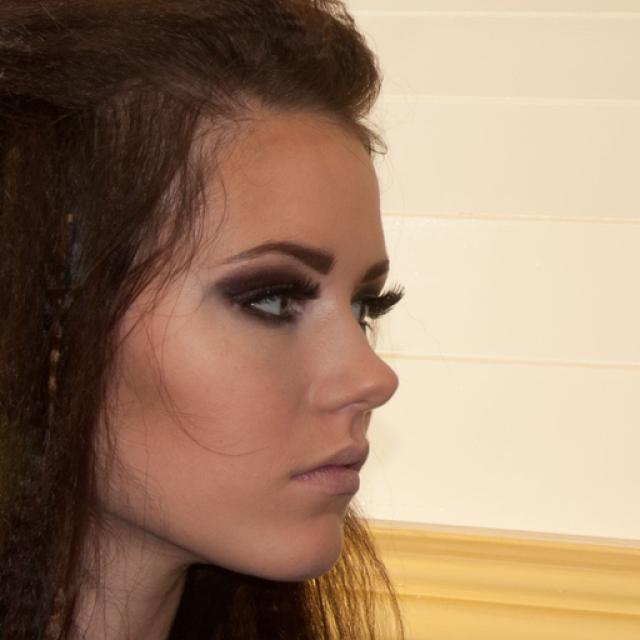neutral: (104, 106, 404, 570)
